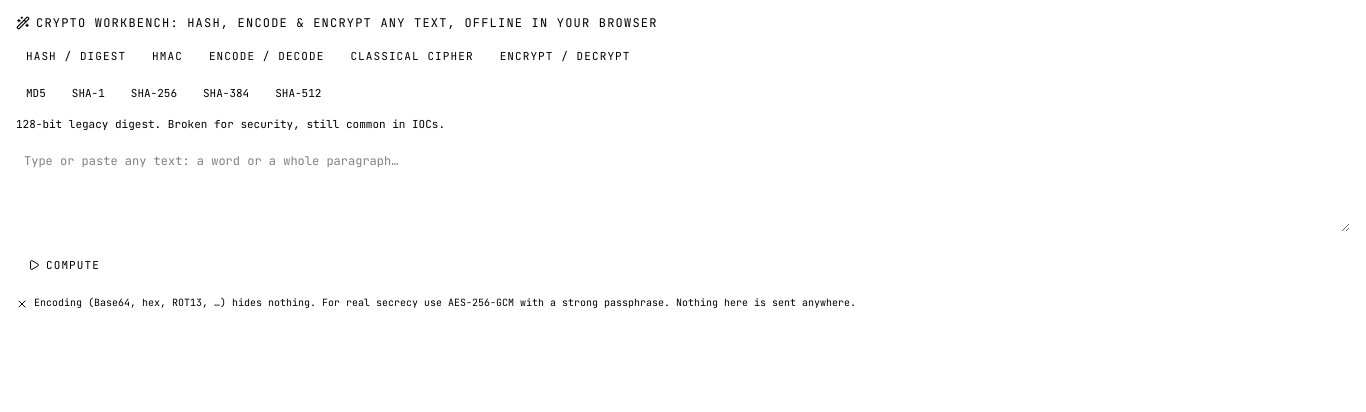
Test: <CryptoWorkbench> encode/decode › shows an inline error for malformed Base64 on decode
Click the tab "Encode / decode".
click(267, 56)  # box [199,44,334,68]
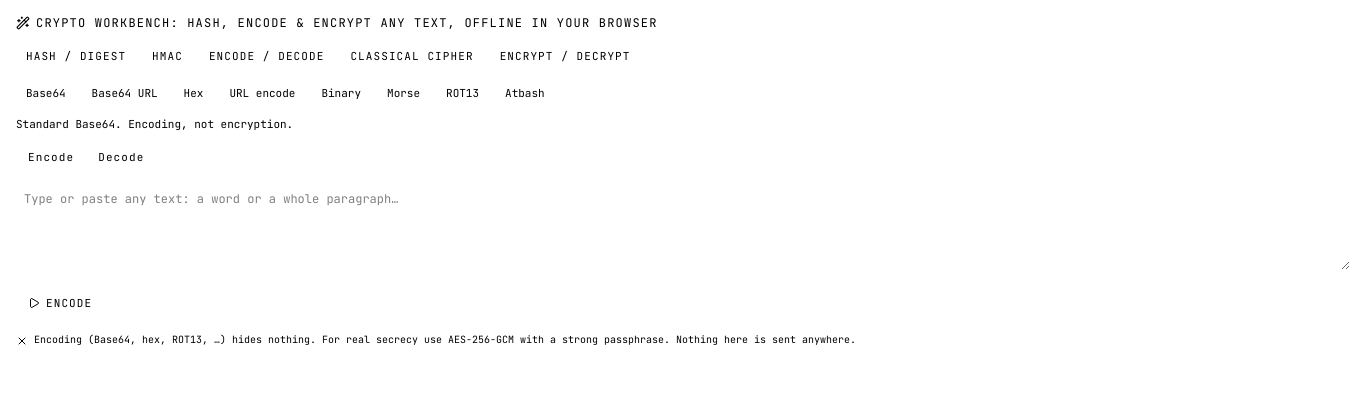
Click the button "Decode".
click(121, 157)  # box [86,145,156,170]
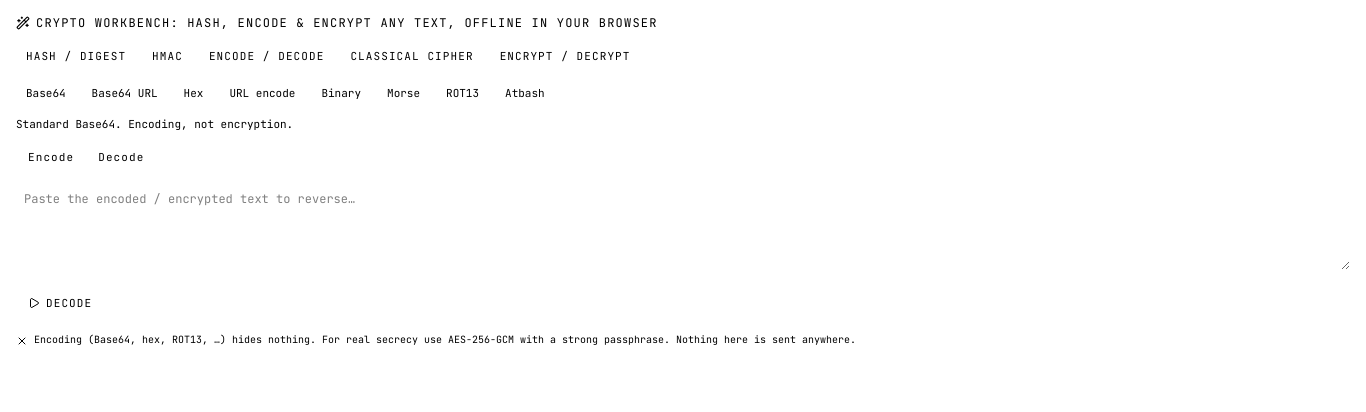
Type "****" into the text box named "Input text".
click(683, 226); type("****")  # box [16,182,1350,270]
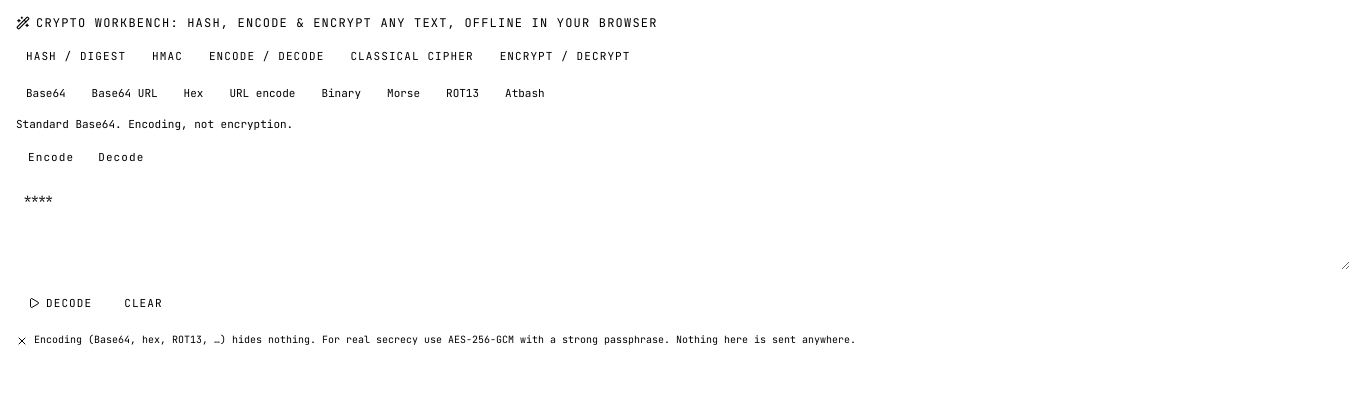
Click the 2nd button "Decode".
click(60, 303)  # box [16,289,104,317]
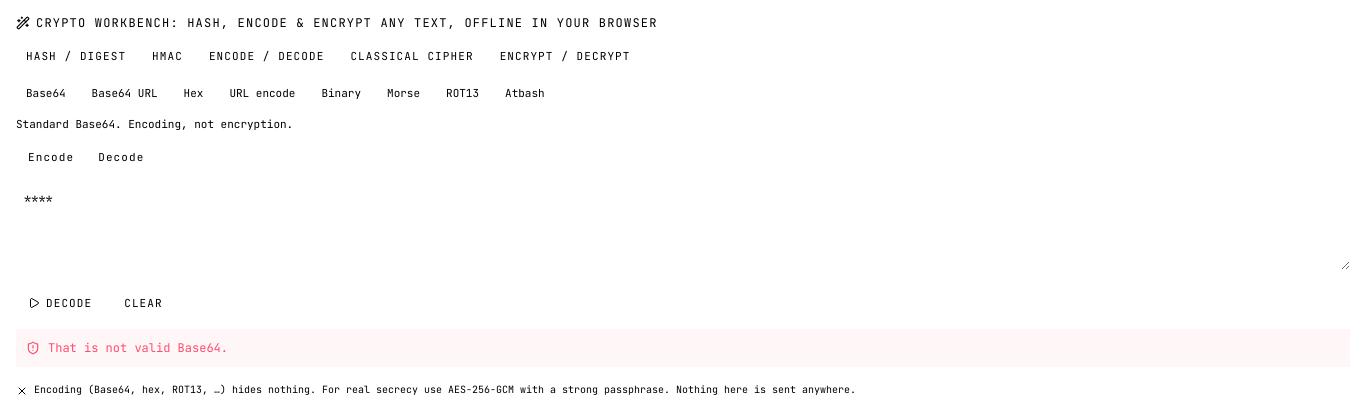
Expected: the text "That is not valid Base64." is shown, [16,329,1350,367]
